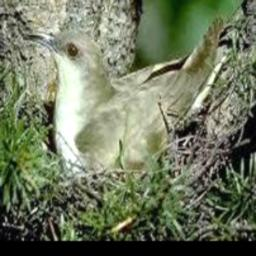Cuckoo: (22, 15, 222, 177)
